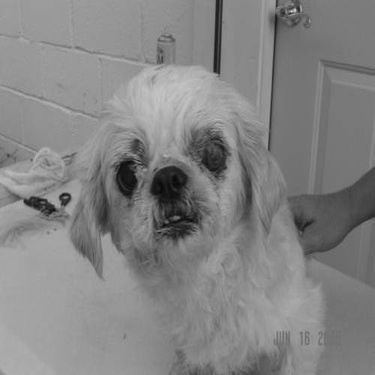dog: (57, 53, 334, 372)
